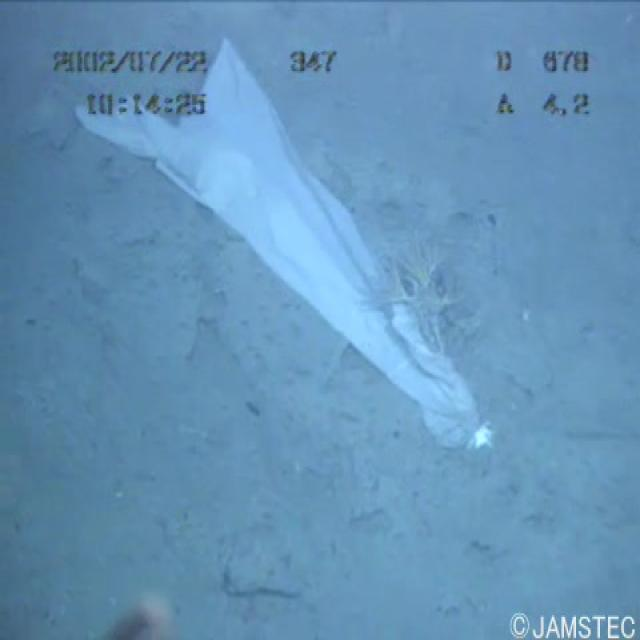plastic: (65, 5, 491, 455)
